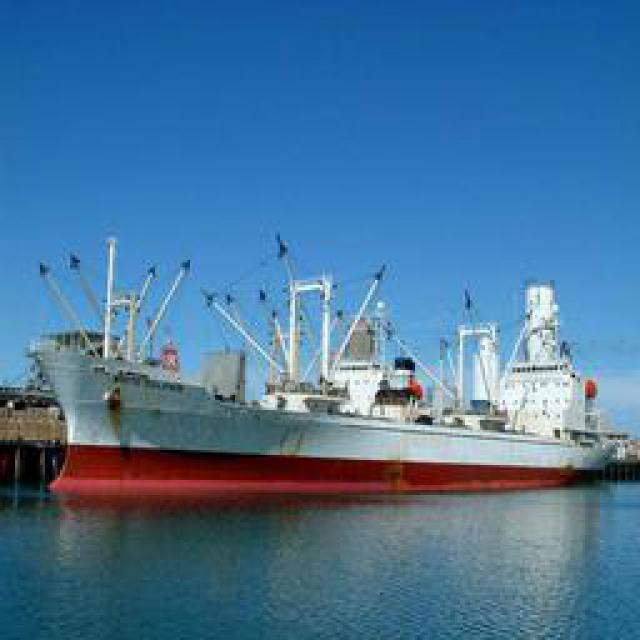Ship: (28, 233, 626, 491)
